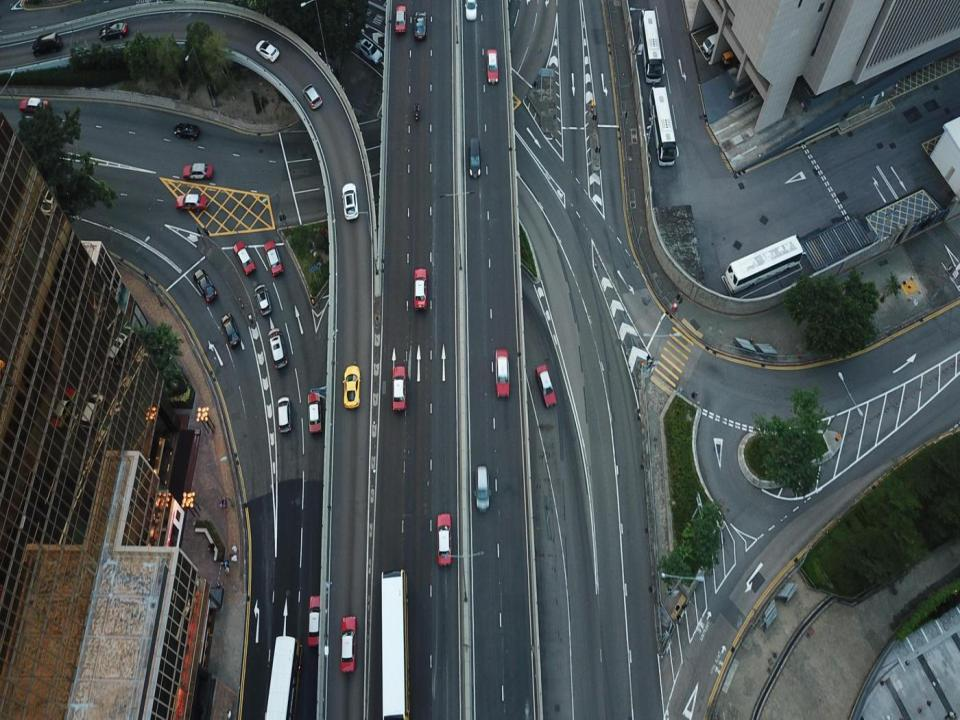bus: (725, 234, 802, 293), (380, 569, 410, 719), (260, 636, 302, 719), (649, 87, 676, 165), (638, 9, 662, 83)
car: (535, 364, 556, 408), (340, 617, 355, 672), (194, 268, 217, 302), (307, 595, 322, 647), (437, 514, 452, 566), (474, 466, 491, 511), (233, 241, 256, 274), (268, 328, 287, 367), (495, 348, 510, 397), (343, 366, 360, 408), (264, 240, 283, 276), (221, 313, 241, 347), (392, 366, 406, 412), (342, 183, 358, 220), (99, 21, 128, 40), (360, 38, 382, 63), (308, 391, 321, 433), (255, 283, 272, 315), (302, 83, 322, 110), (468, 138, 481, 178), (176, 194, 206, 211), (19, 97, 49, 114), (256, 40, 279, 62), (415, 268, 427, 310), (174, 122, 200, 140), (278, 397, 291, 433), (182, 163, 212, 178), (486, 49, 499, 83), (395, 4, 406, 33), (415, 11, 426, 38), (465, 0, 477, 20)
van: (31, 31, 62, 55), (703, 31, 726, 55)
